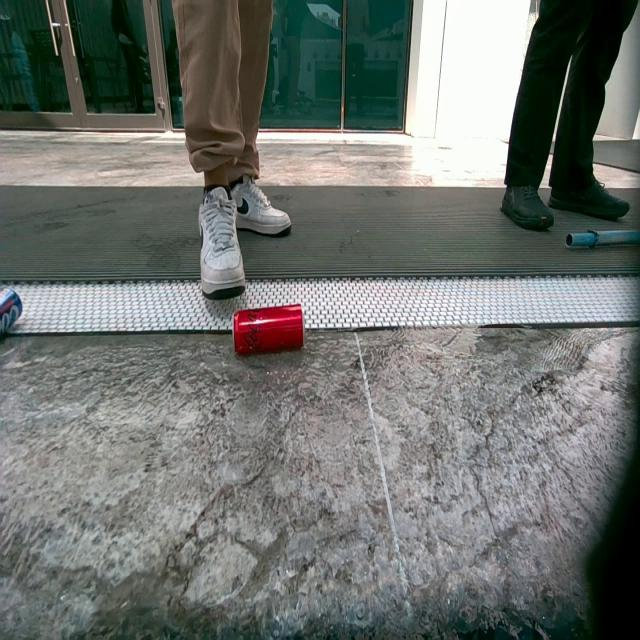Cans: (234, 308, 308, 360), (0, 288, 22, 352)
